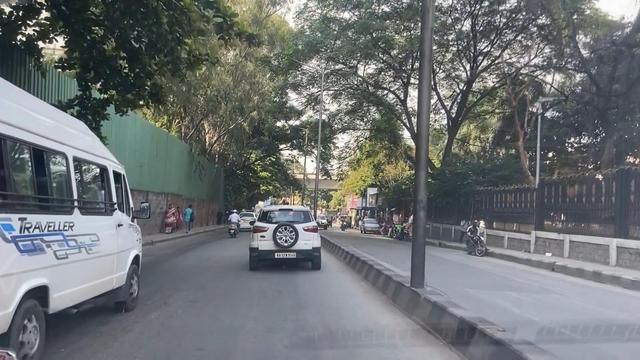HMV: (2, 70, 144, 349)
LMV: (248, 203, 324, 267)
